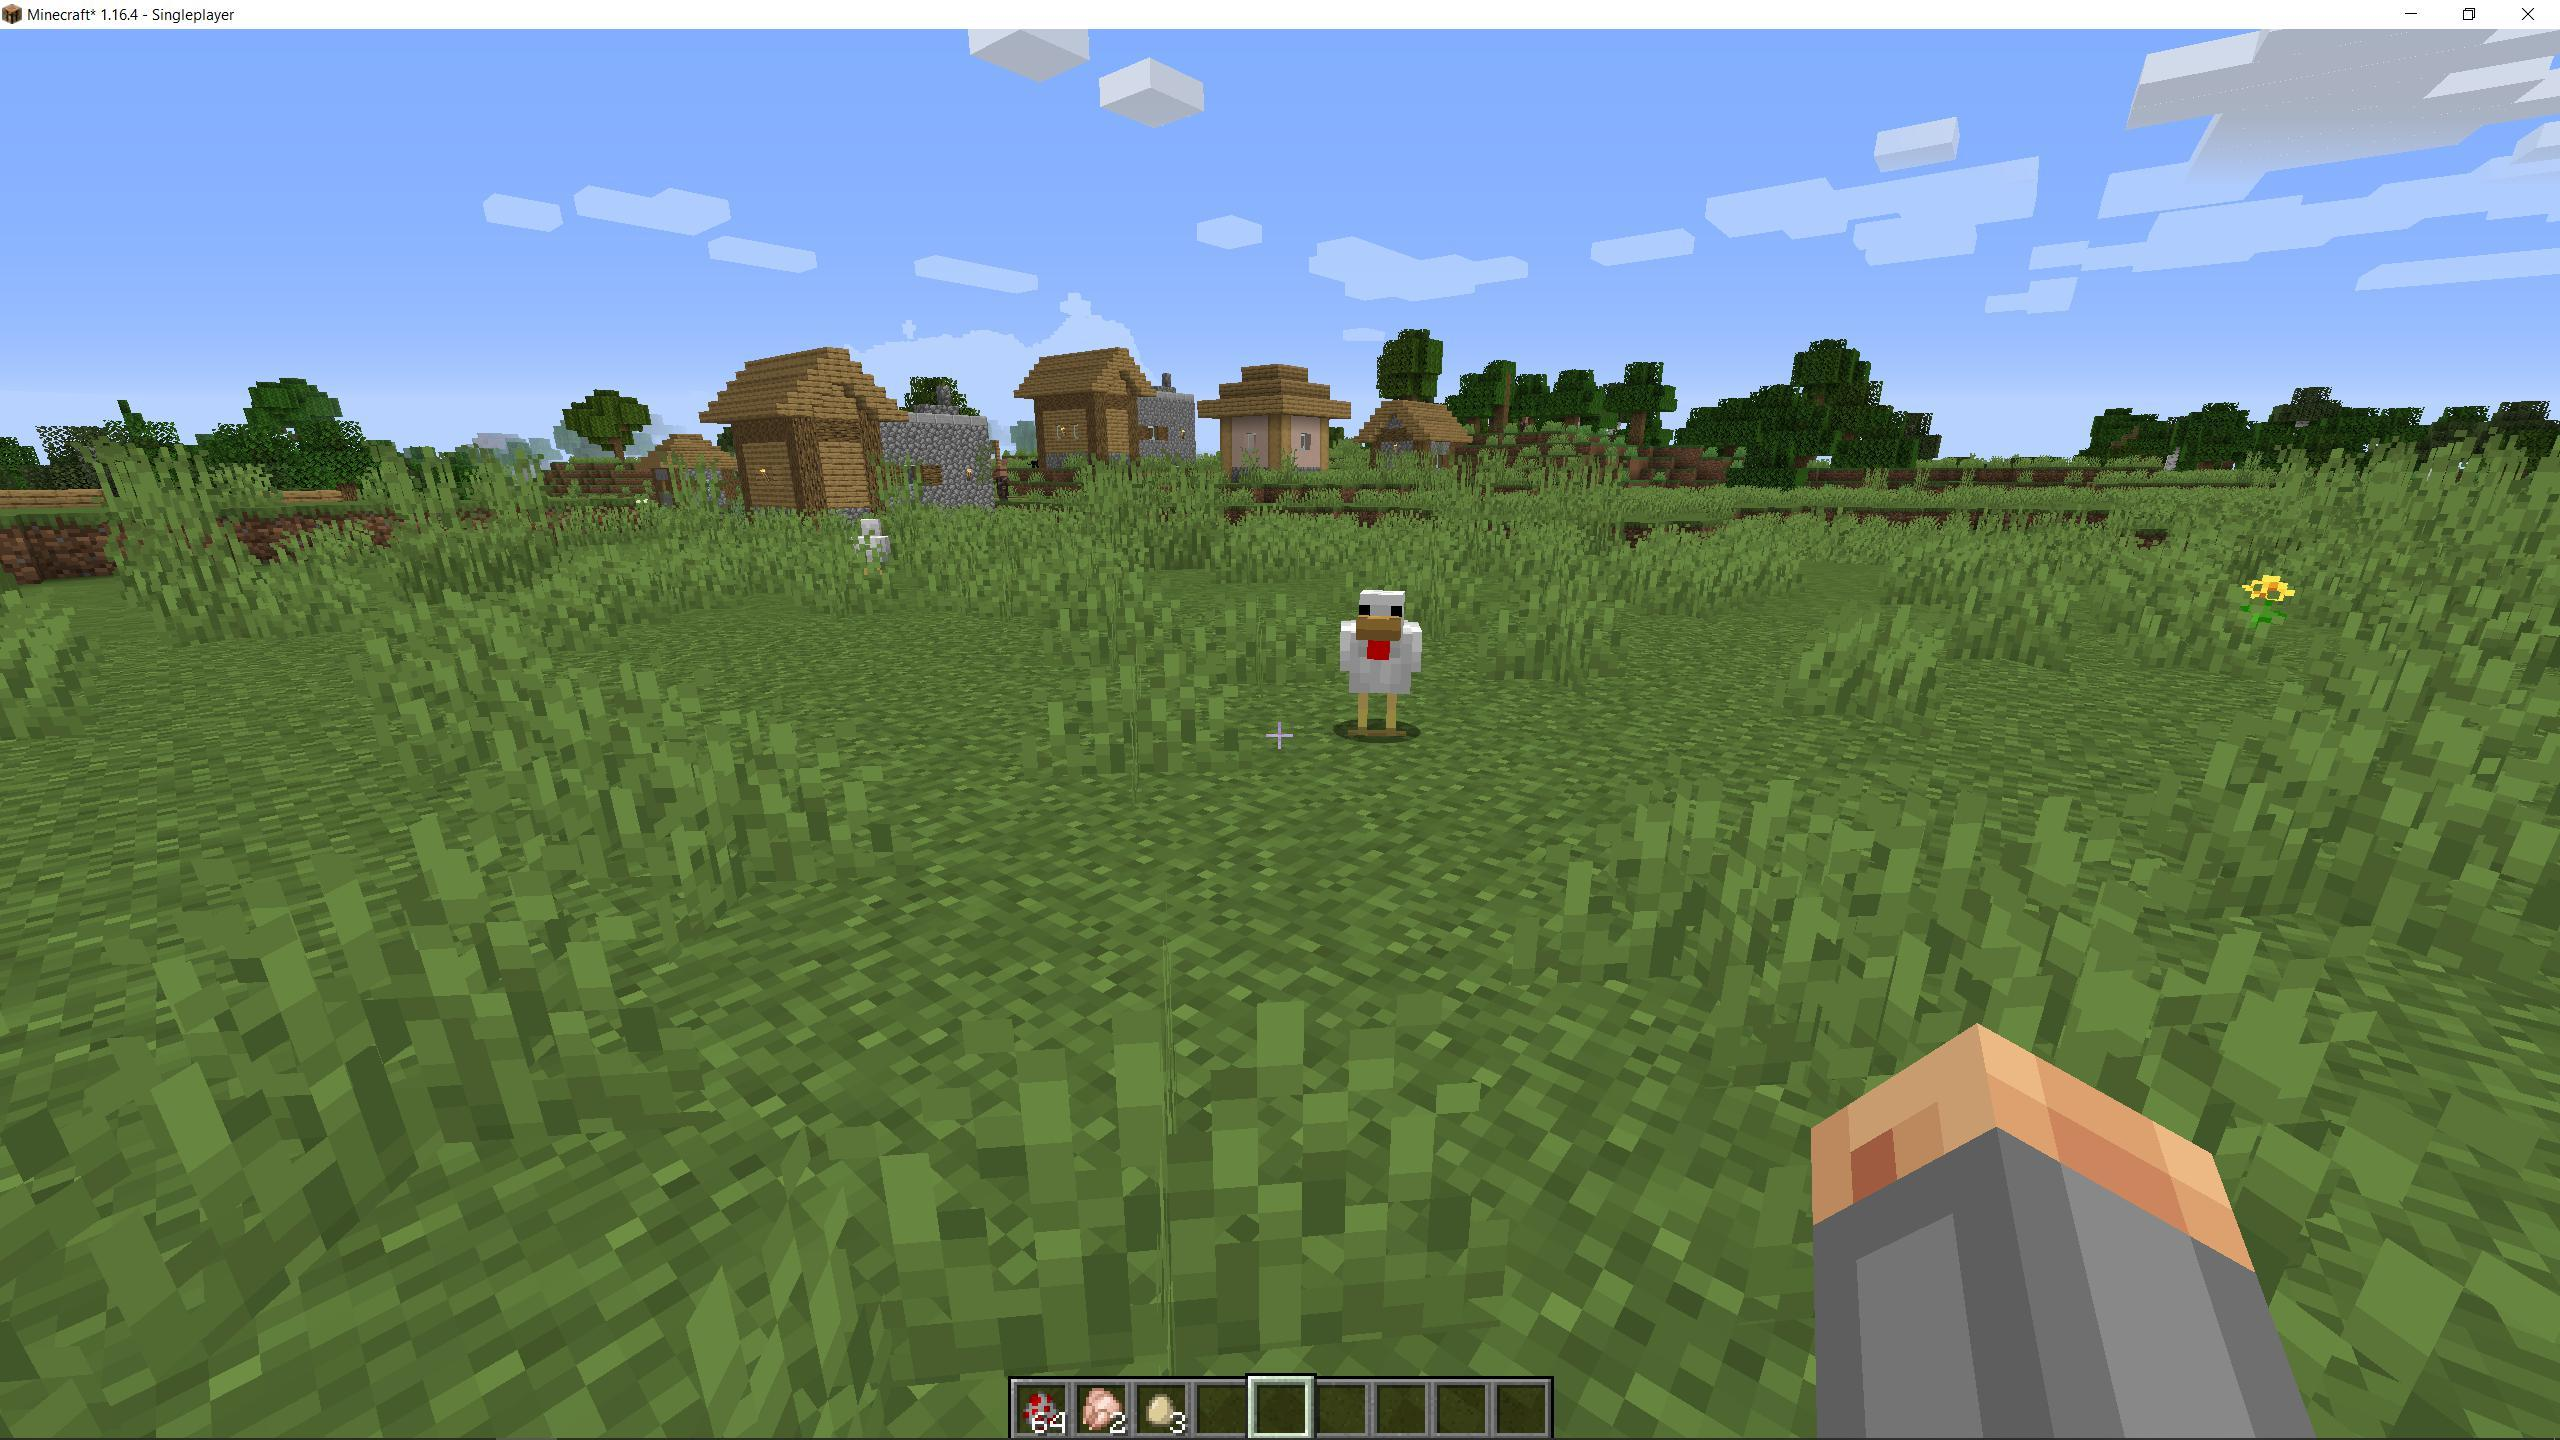chicken: (1319, 573, 1435, 763), (832, 508, 913, 600)
